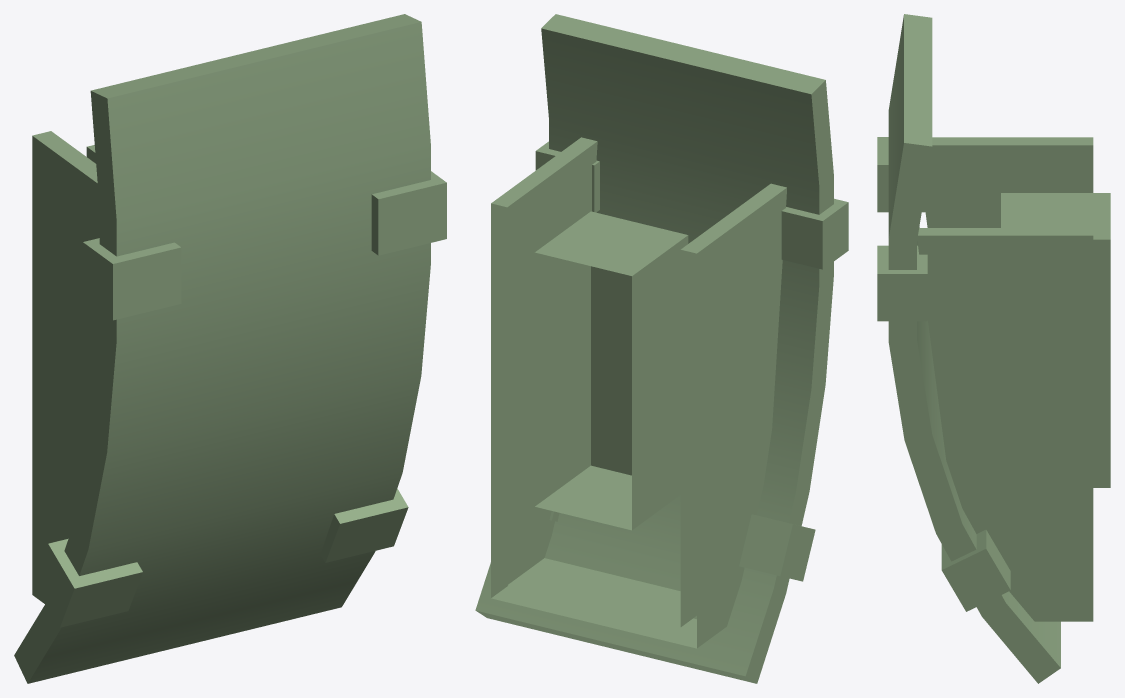
Rendered from Light_Wall.fbx.
3 renders of one model, left to right at view 1: azimuth 30°, elevation 25°; view 2: azimuth 150°, elevation 25°; view 3: azimuth 270°, elevation 25°, orthographic. The views are drawn at different scales.
Visible parts, largest first — view 1: Light_Wall; view 2: Light_Wall; view 3: Light_Wall.
Part boxes in pixels (x1,y1,x2,y2): Light_Wall: (14, 14, 446, 683); Light_Wall: (475, 14, 848, 683); Light_Wall: (877, 14, 1110, 683).
Size of the model in its own units: 19.99 by 36.83 by 14.41.
